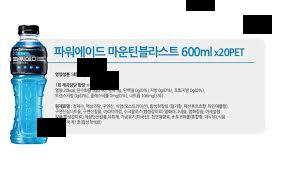powerade_mountainblast: (3, 21, 52, 145)
